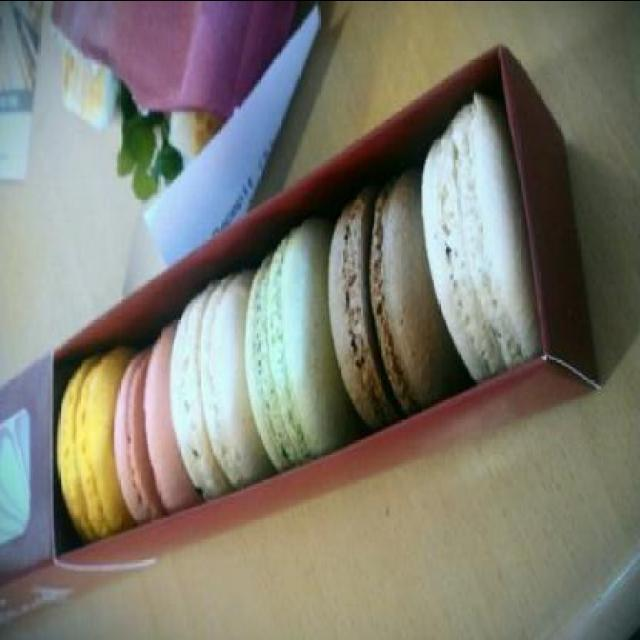Macaron: (56, 46, 582, 558)
